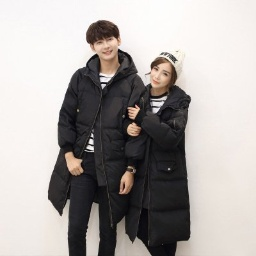face: (85, 19, 124, 62), (146, 55, 178, 92)
